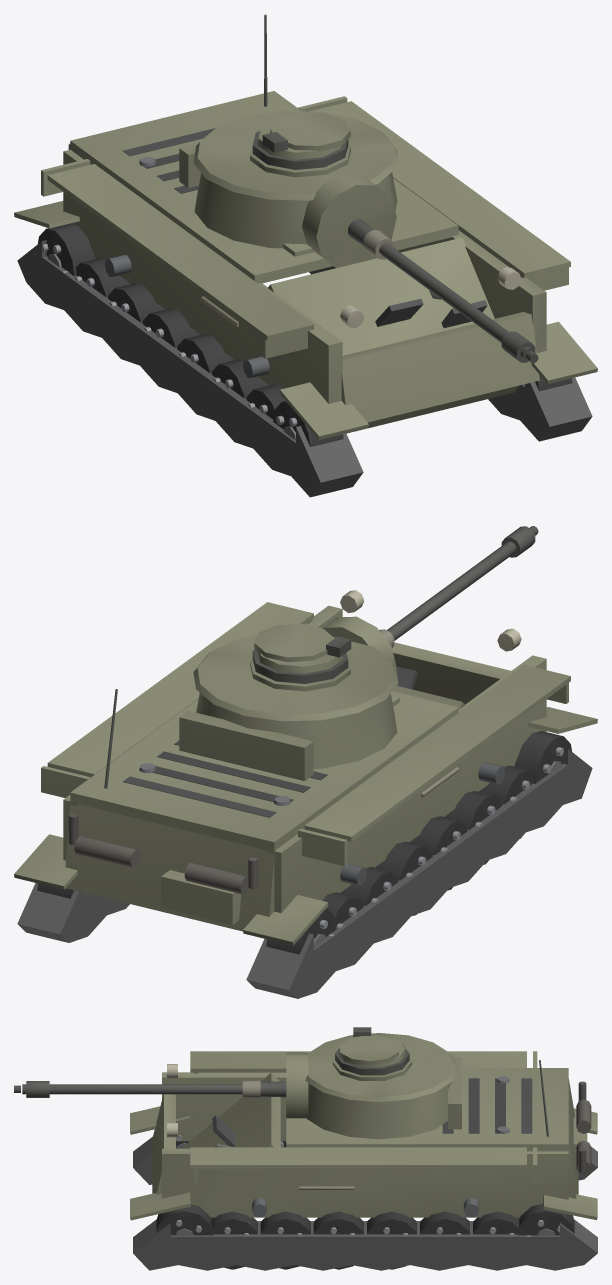
The picture shows the model from 3 angles, top to bottom: view 1: azimuth 30°, elevation 25°; view 2: azimuth 150°, elevation 25°; view 3: azimuth 270°, elevation 25°; orthographic projection. The views are drawn at different scales.
Parts seen in each view (by area): view 1: hullSide, tracks, hullTop, glacis, lowerPlate, turretSide, mantlet, turretFront, turretRoof, barrel, wheel7, wheel1 (+7 smaller); view 2: hullSide, tracks, hullTop, hullRear, turretSide, turretRoof, turretFront, turretRear, lowerPlate, barrel, wheel6, mantlet (+8 smaller); view 3: hullSide, tracks, hullTop, turretSide, turretFront, glacis, barrel, turretRoof, hullRear, mantlet, lowerPlate, wheel14 (+8 smaller).
Part boxes in pixels (bbox=[...]): hullSide: bbox=[41, 96, 570, 403]; tracks: bbox=[14, 201, 597, 497]; hullTop: bbox=[70, 91, 458, 283]; glacis: bbox=[268, 237, 519, 433]; lowerPlate: bbox=[341, 312, 539, 422]; turretSide: bbox=[193, 111, 398, 200]; mantlet: bbox=[302, 174, 396, 268]; turretFront: bbox=[194, 172, 397, 248]; turretRoof: bbox=[250, 113, 350, 177]; barrel: bbox=[348, 219, 538, 362]; wheel7: bbox=[38, 223, 96, 276]; wheel1: bbox=[107, 283, 165, 322]; hullSide: bbox=[41, 590, 570, 912]; tracks: bbox=[14, 707, 597, 998]; hullTop: bbox=[70, 691, 458, 851]; hullRear: bbox=[65, 689, 275, 931]; turretSide: bbox=[193, 635, 398, 721]; turretRoof: bbox=[250, 624, 351, 691]; turretFront: bbox=[196, 693, 397, 768]; turretRear: bbox=[179, 711, 313, 780]; lowerPlate: bbox=[392, 642, 510, 704]; barrel: bbox=[379, 526, 538, 647]; wheel6: bbox=[513, 731, 571, 783]; mantlet: bbox=[322, 616, 396, 669]; hullSide: bbox=[162, 1051, 568, 1217]; tracks: bbox=[130, 1106, 597, 1270]; hullTop: bbox=[286, 1068, 568, 1151]; turretSide: bbox=[305, 1033, 458, 1102]; turretFront: bbox=[306, 1082, 451, 1139]; glacis: bbox=[182, 1073, 280, 1148]; barrel: bbox=[14, 1080, 286, 1098]; turretRoof: bbox=[332, 1027, 411, 1080]; hullRear: bbox=[539, 1060, 591, 1198]; mantlet: bbox=[286, 1052, 308, 1118]; lowerPlate: bbox=[152, 1094, 175, 1194]; wheel14: bbox=[156, 1204, 213, 1235].
Size of the model in its own units: 3.9 by 3.03 by 8.48.
